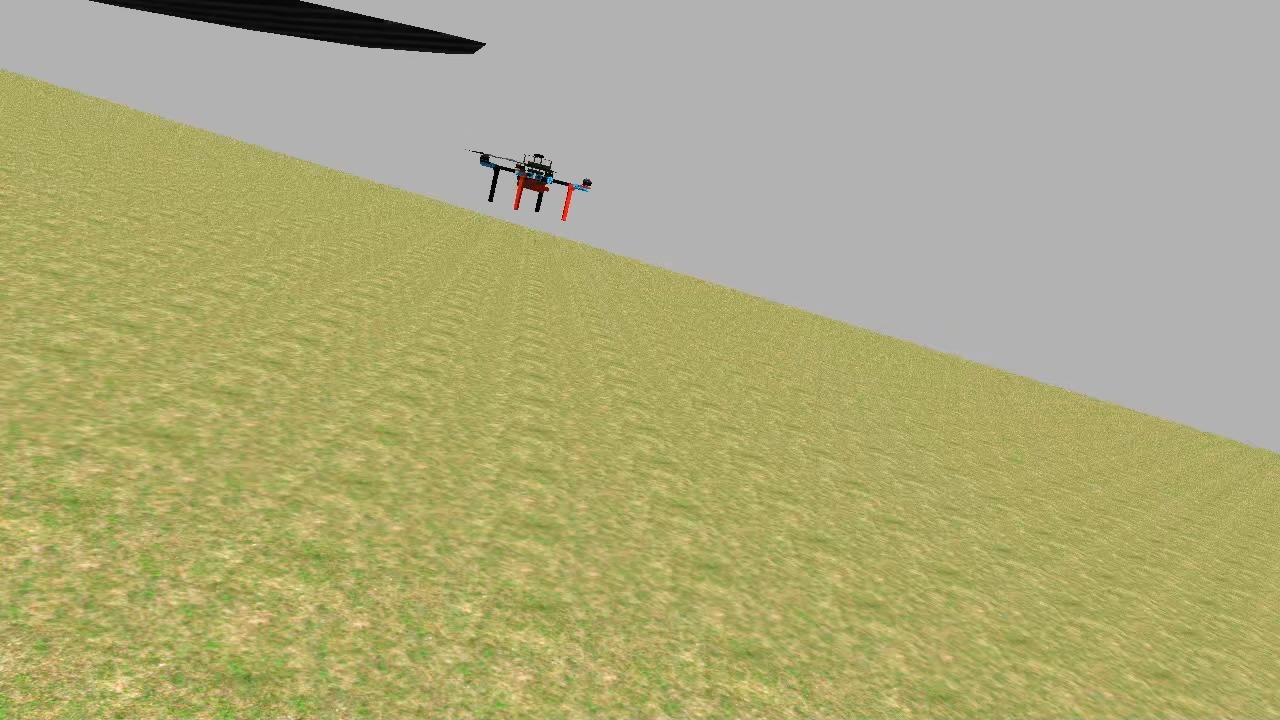UAV: (433, 131, 633, 238)
